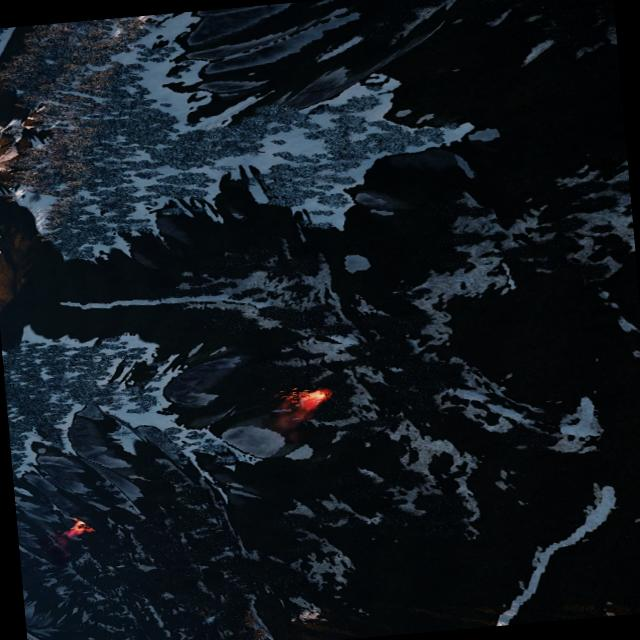fire: (288, 384, 330, 408), (66, 516, 95, 534)
smoke: (273, 391, 320, 441), (42, 530, 80, 566)
